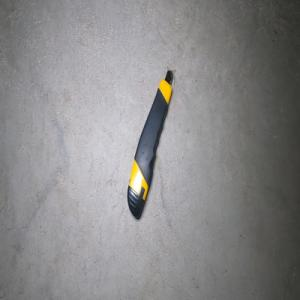Cutter: (126, 68, 173, 219)
